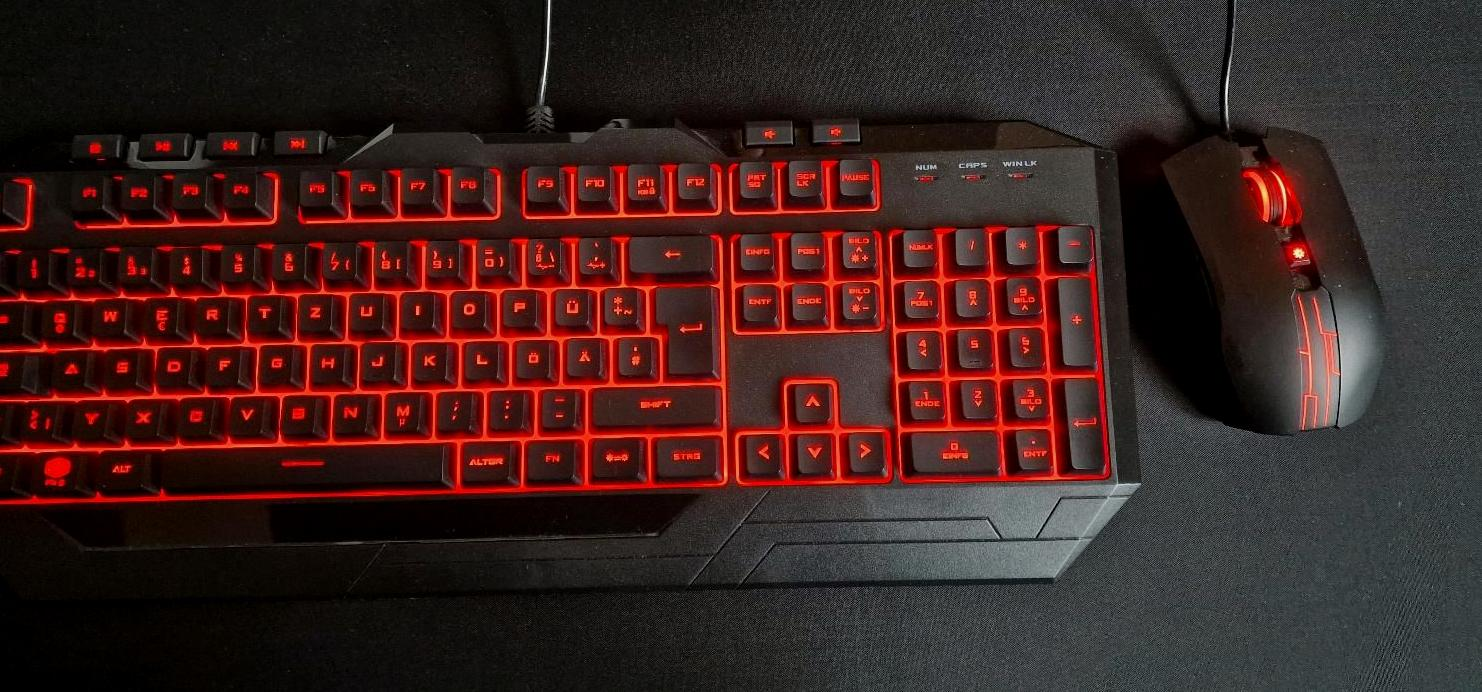0: (472, 234, 512, 279)
1: (14, 246, 47, 287)
2: (65, 246, 103, 288)
3: (119, 246, 154, 288)
4: (167, 242, 202, 284)
5: (218, 240, 254, 282)
6: (267, 238, 305, 281)
7: (316, 237, 360, 282)
8: (368, 236, 417, 284)
9: (420, 236, 460, 279)
a: (49, 347, 86, 389)
accent: (574, 232, 616, 277)
ae: (562, 333, 607, 378)
alt-left: (91, 446, 150, 492)
altgr-right: (457, 436, 520, 484)
b: (278, 391, 326, 435)
c: (176, 393, 214, 435)
caret: (1, 249, 17, 284)
comma: (434, 387, 480, 432)
d: (154, 342, 191, 386)
del: (624, 232, 716, 275)
e: (140, 294, 177, 336)
enter: (650, 280, 716, 376)
f: (205, 342, 239, 385)
g: (257, 340, 294, 384)
h: (307, 339, 347, 383)
hash: (612, 332, 658, 377)
i: (398, 287, 436, 329)
j: (359, 340, 400, 381)
k: (409, 338, 455, 382)
keyboard: (1, 117, 1139, 608)
l: (460, 336, 502, 380)
less: (18, 399, 59, 439)
m: (381, 387, 429, 435)
minus: (537, 385, 582, 428)
n: (330, 389, 375, 435)
o: (448, 286, 492, 329)
oe: (512, 335, 555, 379)
p: (498, 286, 543, 328)
plus: (599, 283, 642, 328)
point: (486, 386, 532, 430)
q: (37, 298, 74, 338)
r: (190, 293, 230, 336)
s: (100, 345, 138, 386)
shift-left: (1, 403, 28, 443)
shift-lock: (1, 352, 38, 394)
shift-right: (588, 382, 718, 426)
space: (158, 441, 447, 488)
ss: (522, 234, 567, 278)
strg-left: (1, 455, 33, 497)
strg-right: (649, 431, 723, 480)
t: (246, 291, 283, 334)
tab: (1, 296, 32, 339)
u: (347, 288, 387, 330)
ue: (550, 285, 593, 327)
v: (226, 392, 272, 436)
w: (88, 295, 126, 336)
x: (125, 395, 161, 438)
y: (70, 396, 115, 441)
z: (296, 290, 336, 331)
